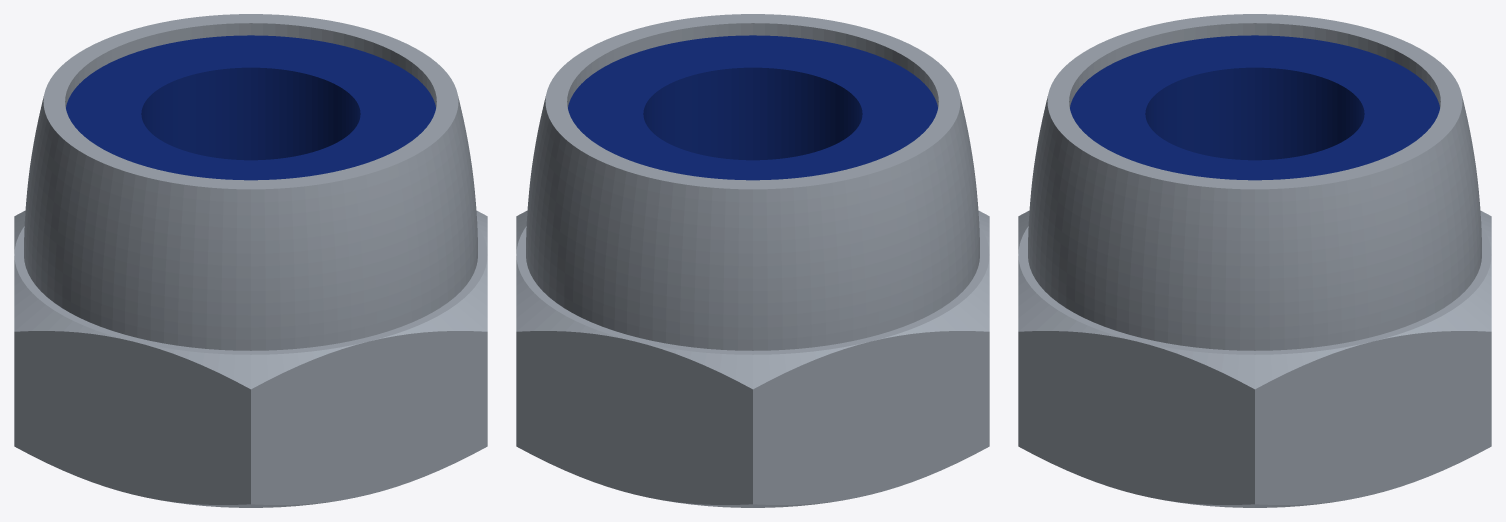
The model's file is model_full.glb.
The picture shows the model from 3 angles, left to right: view 1: azimuth 30°, elevation 25°; view 2: azimuth 150°, elevation 25°; view 3: azimuth 270°, elevation 25°; orthographic projection.
Parts seen in each view (by area): view 1: steel, nylon_insert; view 2: steel, nylon_insert; view 3: steel, nylon_insert.
Part boxes in pixels (x1=…): steel: x1=14, y1=14, x2=487, y2=507; nylon_insert: x1=66, y1=35, x2=435, y2=180; steel: x1=516, y1=14, x2=989, y2=507; nylon_insert: x1=568, y1=35, x2=937, y2=180; steel: x1=1018, y1=14, x2=1491, y2=507; nylon_insert: x1=1070, y1=35, x2=1439, y2=180.
Bounding box in the file's own units: 0.00808 × 0.005 × 0.007.
